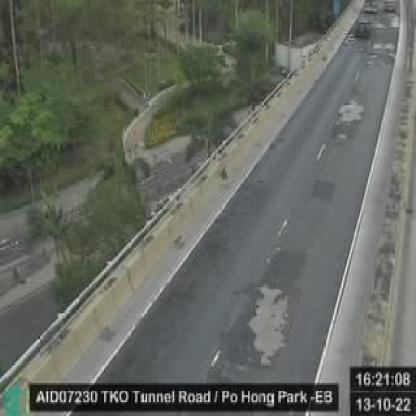Car: (355, 19, 374, 39)
